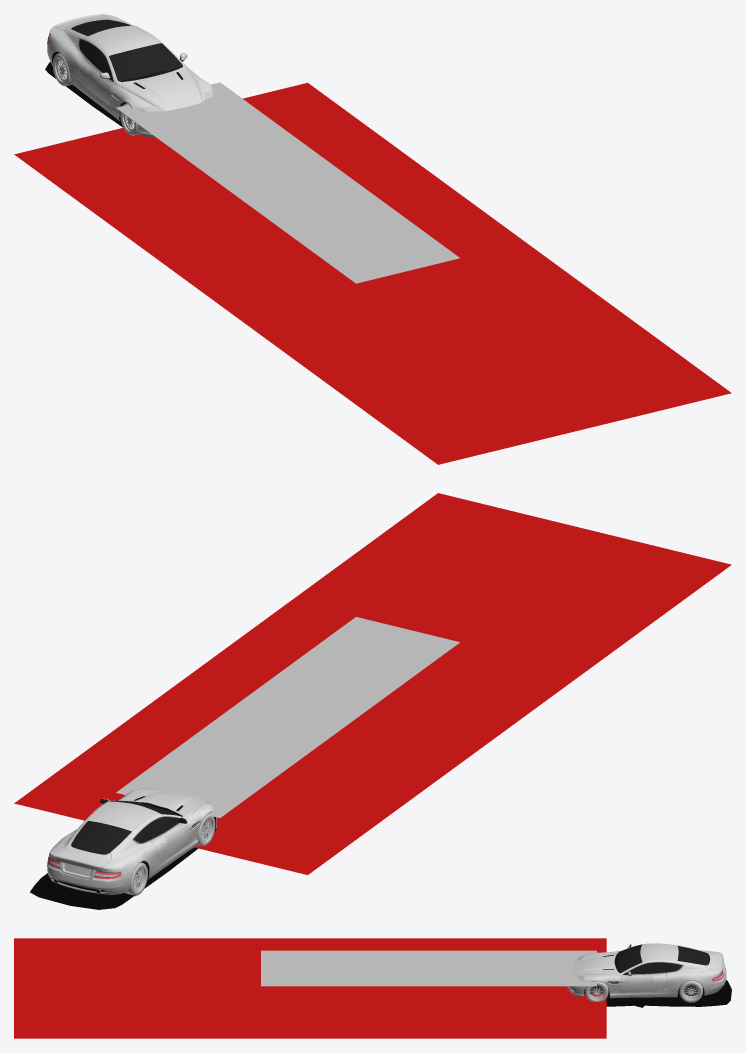
The model's file is car30.fbx.
3 renders of one model, top to bottom at view 1: azimuth 30°, elevation 25°; view 2: azimuth 150°, elevation 25°; view 3: azimuth 270°, elevation 25°, orthographic. The views are drawn at different scales.
Parts seen in each view (by area): view 1: light_ground, far_lights, aston_martin; view 2: light_ground, far_lights, aston_martin, shadow_car; view 3: light_ground, far_lights, aston_martin, shadow_car, decalSide, wheel_RL, wheel_FL.
Boxes of the visible parts, bbox=[...] form: light_ground: bbox=[14, 82, 731, 464]; far_lights: bbox=[116, 82, 459, 283]; aston_martin: bbox=[47, 14, 213, 137]; light_ground: bbox=[14, 493, 731, 874]; far_lights: bbox=[116, 617, 459, 817]; aston_martin: bbox=[47, 788, 216, 894]; shadow_car: bbox=[30, 847, 197, 909]; light_ground: bbox=[14, 938, 606, 1038]; far_lights: bbox=[261, 950, 596, 986]; aston_martin: bbox=[567, 943, 726, 998]; shadow_car: bbox=[606, 980, 731, 1007]; decalSide: bbox=[623, 976, 654, 993]; wheel_RL: bbox=[679, 980, 702, 1002]; wheel_FL: bbox=[585, 981, 608, 1001].
Bounding box in the file's own units: 48.09 × 8.77 × 146.
